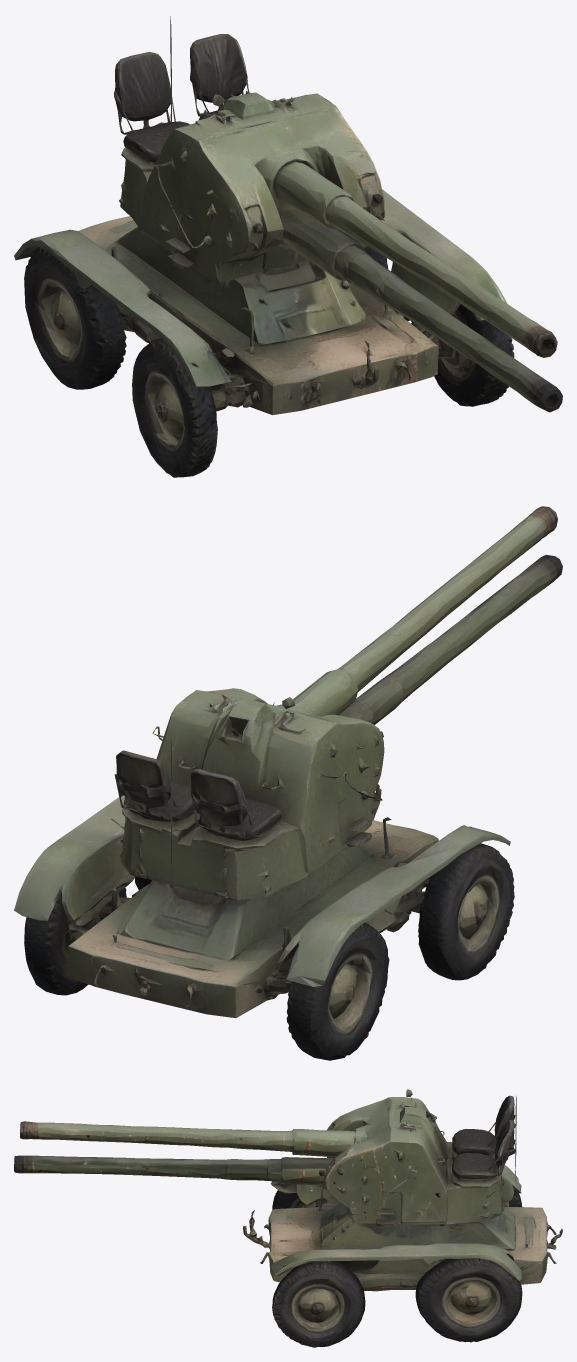
The model's file is zu23_towed.glb.
3 renders of one model, top to bottom at view 1: azimuth 30°, elevation 25°; view 2: azimuth 150°, elevation 25°; view 3: azimuth 270°, elevation 25°, orthographic. The views are drawn at different scales.
Parts seen in each view (by area): view 1: carriage, turret, barrels; view 2: carriage, turret, barrels; view 3: carriage, turret, barrels.
Part boxes in pixels (left/top/right/bottom): carriage: left=14, top=189, right=514, bottom=477; turret: left=114, top=16, right=432, bottom=320; barrels: left=397, top=243, right=562, bottom=412; carriage: left=14, top=784, right=514, bottom=1060; turret: left=111, top=602, right=431, bottom=900; barrels: left=402, top=506, right=562, bottom=684; carriage: left=243, top=1165, right=562, bottom=1347; turret: left=180, top=1089, right=516, bottom=1225; barrels: left=14, top=1121, right=205, bottom=1177.
Size of the model in its own units: 2.09 by 1.9 by 4.6.
Materials: 1 (1 with a texture image).
